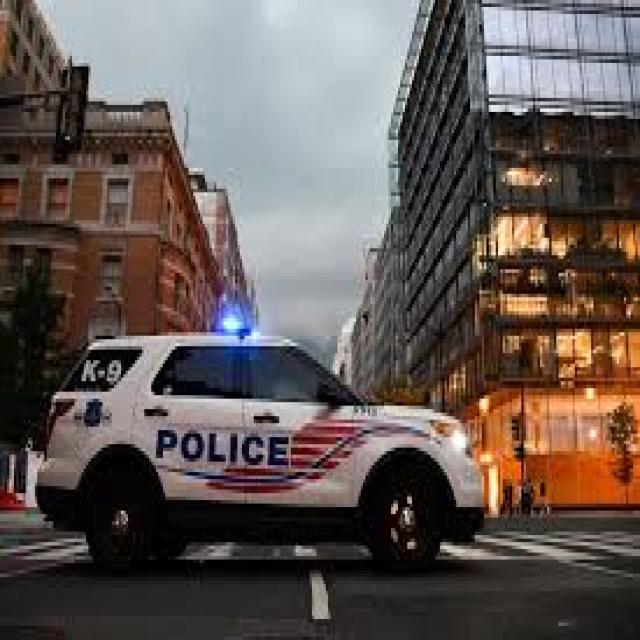cop: (41, 316, 491, 578)
